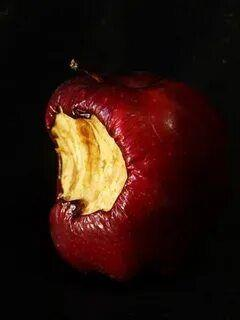Apple: (47, 68, 208, 282)
